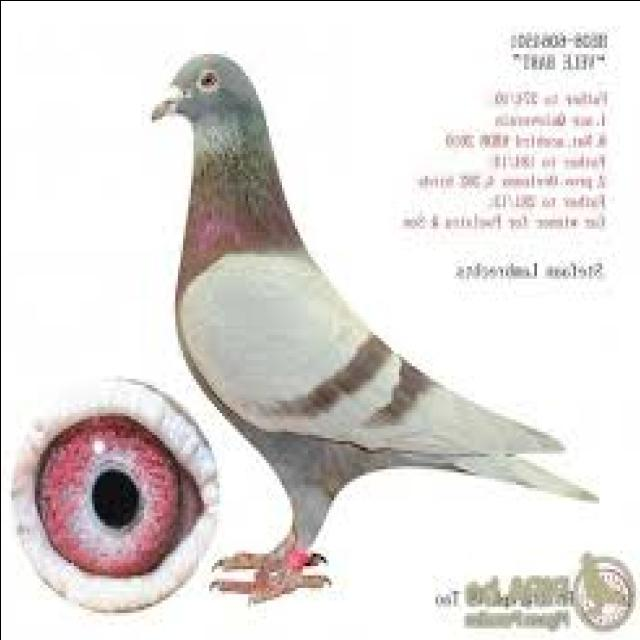pigeon: (158, 46, 596, 616)
